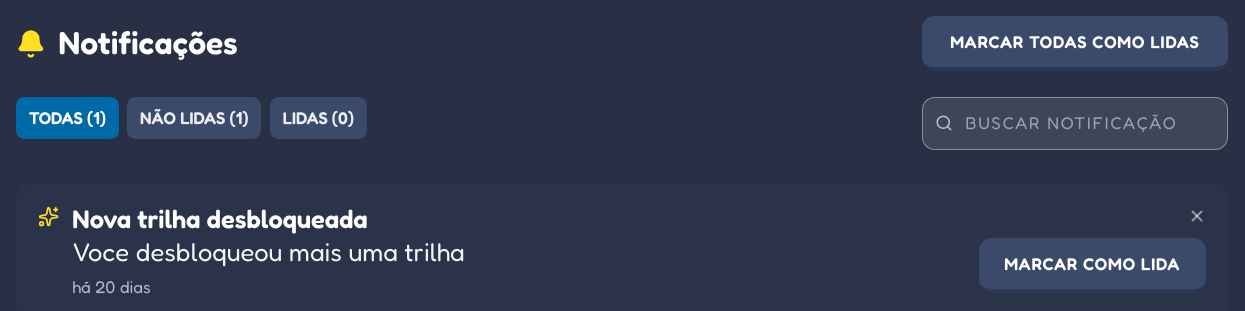
it: NotificationsPage › deve marcar uma notificacao como lida e atualizar a interface
Check: the heading "Nova trilha desbloqueada" is shown, box left=72, top=202, right=368, bottom=234
What coordinates should you click on to do the following:
click the button "Marcar como lida"
I would click on:
 (1092, 266)
Its box is left=979, top=238, right=1206, bottom=293.
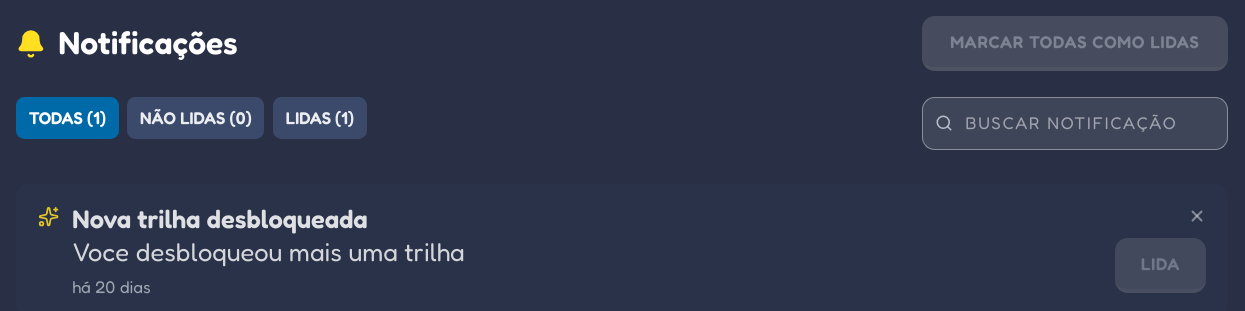
Check: the button "Lida" is disabled, box left=1115, top=238, right=1206, bottom=293
Check: the button "NÃO LIDAS (0)" is shown, box left=127, top=96, right=264, bottom=139
Check: the button "LIDAS (1)" is shown, box left=273, top=96, right=367, bottom=139
